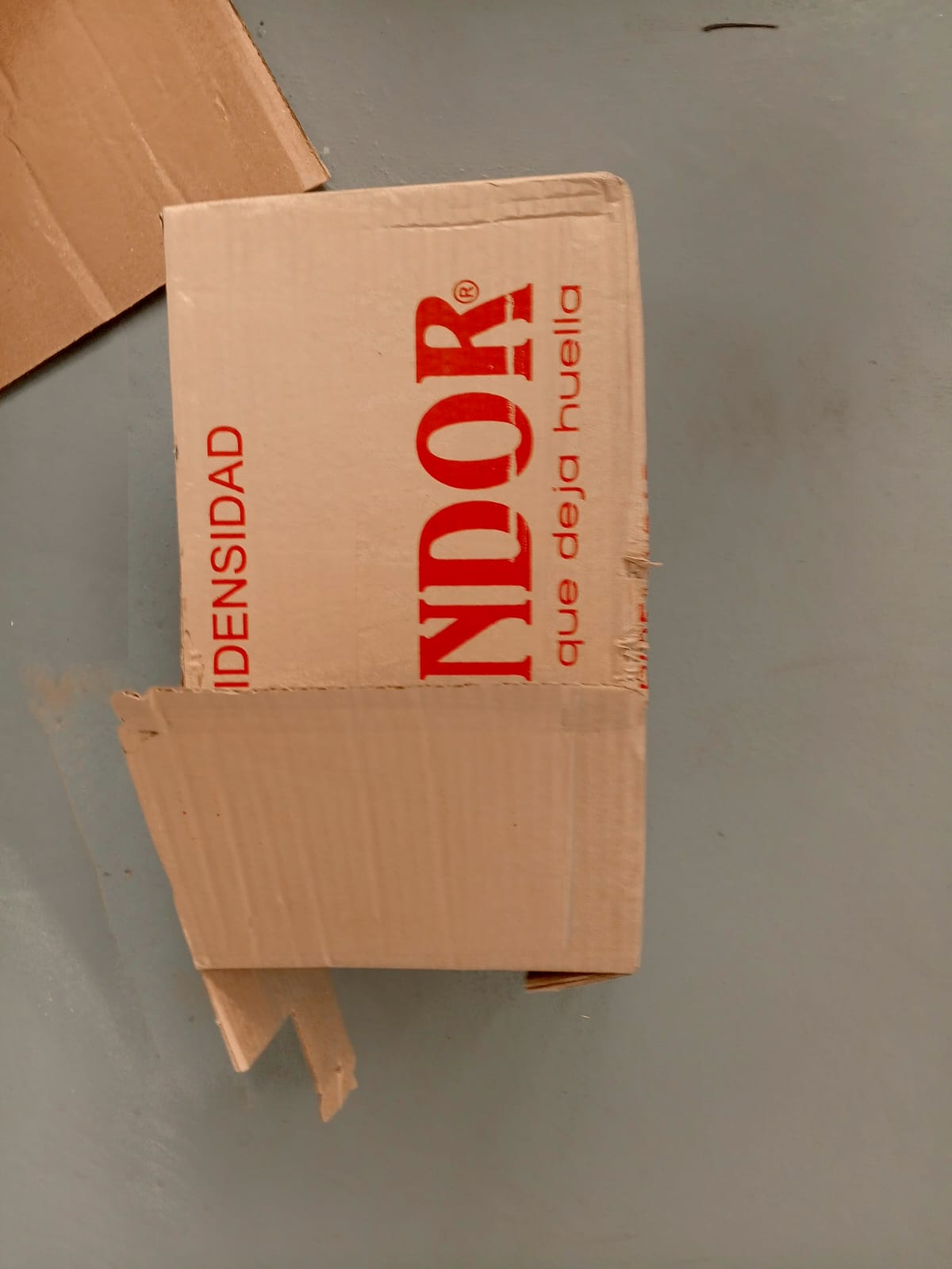Carton: (110, 170, 650, 977), (0, 2, 328, 395)
